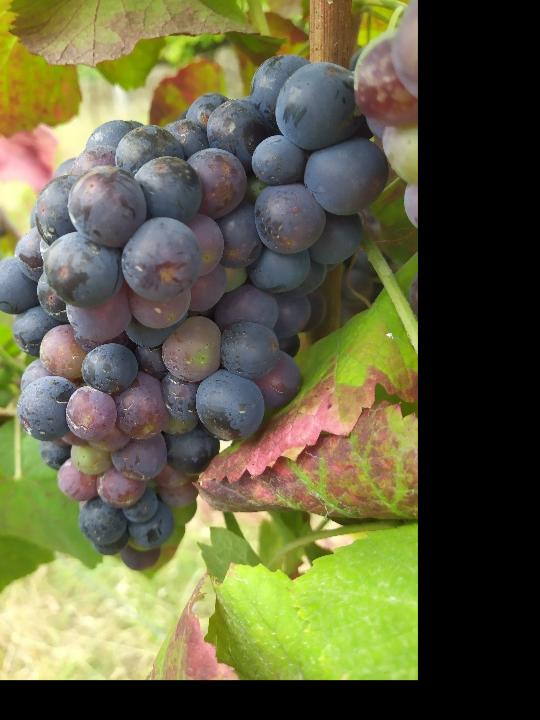grape: (0, 55, 394, 581)
